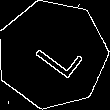L_NW: (22, 27, 83, 82)
